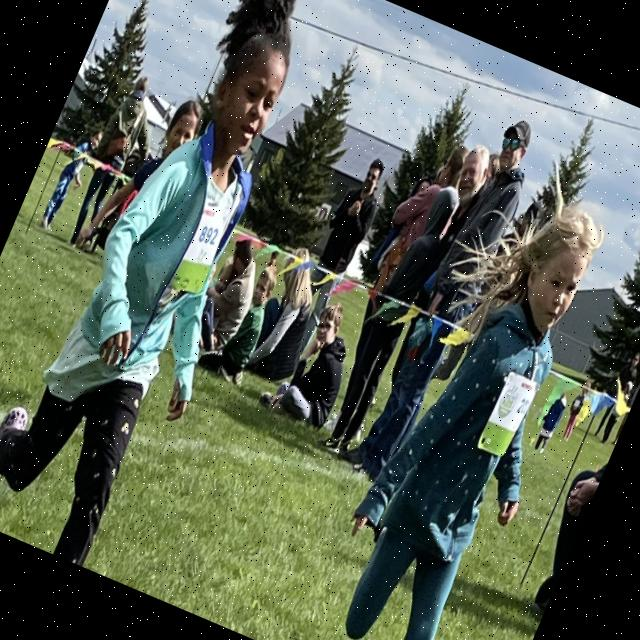Person: (0, 0, 356, 579), (292, 173, 633, 640), (348, 110, 550, 500), (59, 68, 174, 257), (256, 288, 370, 434), (192, 253, 288, 387), (38, 122, 104, 236)
